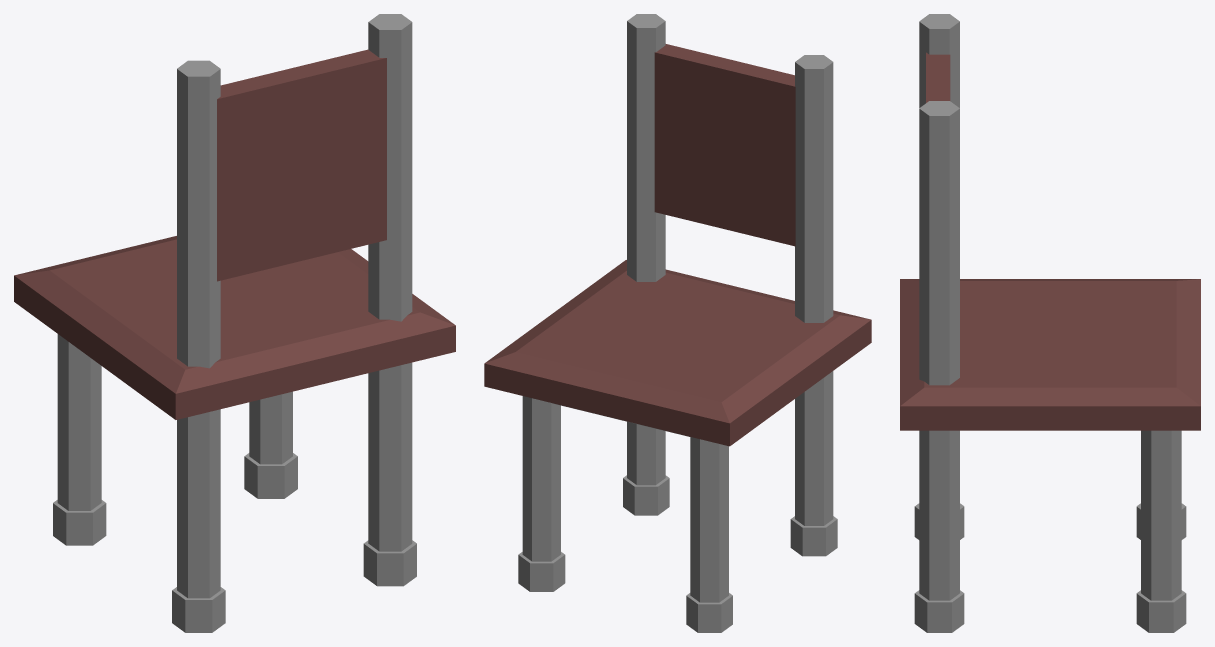
Rendered from chair.fbx.
3 views of the same model, side by side, from view 1: azimuth 30°, elevation 25°; view 2: azimuth 150°, elevation 25°; view 3: azimuth 270°, elevation 25° (orthographic). The views are drawn at different scales.
Visible parts, largest first — view 1: Cylinder, Cube, Cube.001; view 2: Cylinder, Cube, Cube.001; view 3: Cube, Cylinder, Cube.001.
Part boxes in pixels (x1,y1,x2,y2): Cylinder: (53, 14, 416, 632); Cube: (14, 236, 455, 419); Cube.001: (217, 49, 386, 281); Cylinder: (518, 14, 837, 632); Cube: (484, 260, 871, 446); Cube.001: (654, 44, 795, 246); Cube: (900, 279, 1200, 430); Cylinder: (914, 14, 1186, 632); Cube.001: (926, 52, 950, 102).
Bounding box in the file's own units: 361 × 683 × 361.
